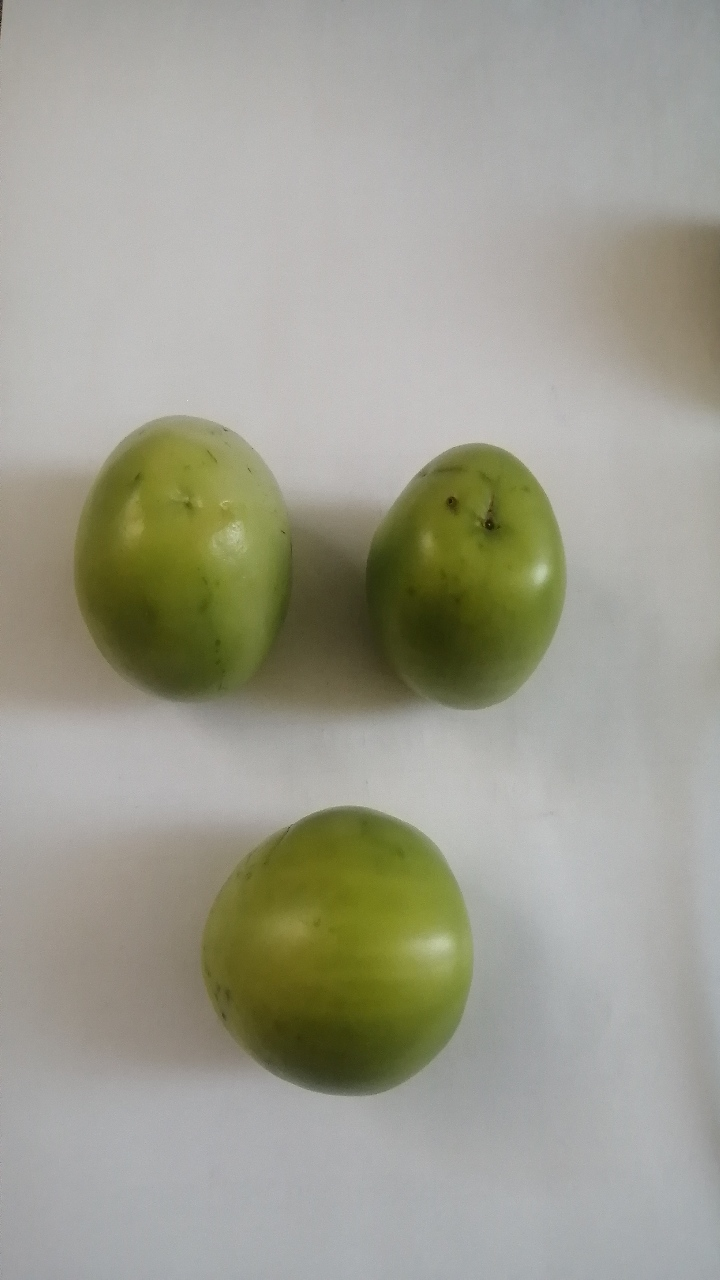tomateVerde: (152, 780, 488, 1125), (334, 402, 575, 734), (64, 382, 297, 717)
